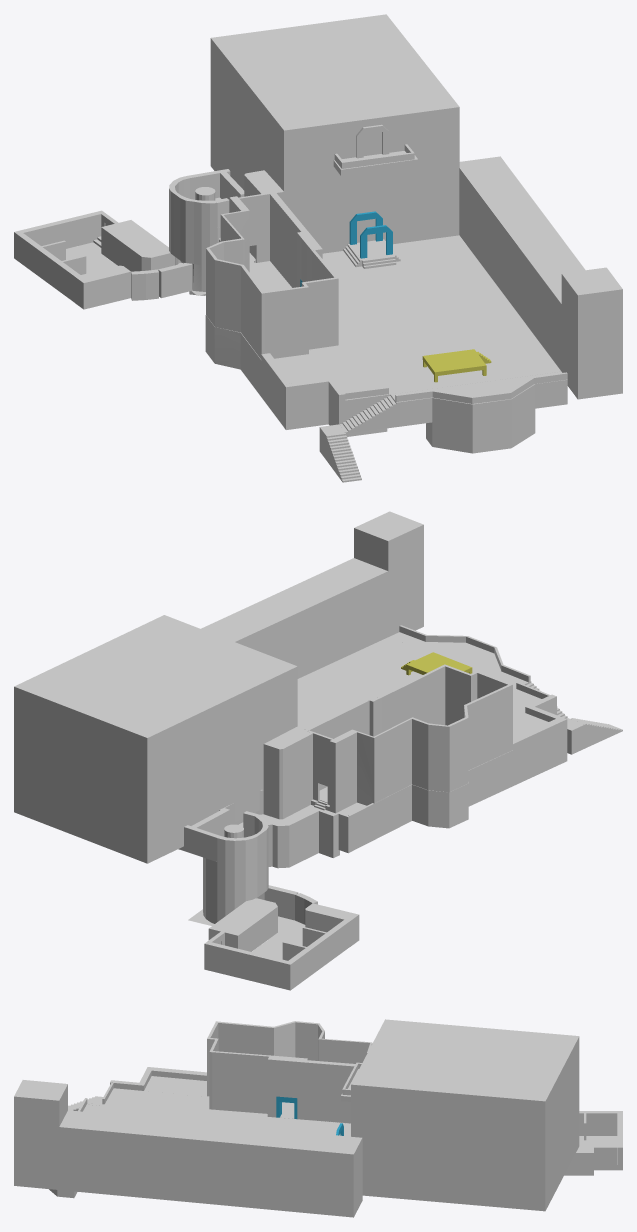
Rendered from PRE_WhiteBox_FirstBeat_SM.fbx.
3 renders of one model, top to bottom at view 1: azimuth 30°, elevation 25°; view 2: azimuth 150°, elevation 25°; view 3: azimuth 270°, elevation 25°, orthographic. The views are drawn at different scales.
Parts seen in each view (by area): view 1: CastleBody_01, Floor_12, Wall_49, Tower_01_1, Floor_17, Tower_01, Floor_13, Wall_41, Wall_03, Wall_47, Wall_34, Wall_31 (+22 smaller); view 2: CastleBody_01, Wall_49, Floor_12, Tower_01_1, Tower_01, Wall_31, Wall_13, Wall_40, Wall_35, Wall_01, Wall_03, Wall_16 (+22 smaller); view 3: CastleBody_01, Wall_49, Tower_01_1, Wall_44, Floor_12, Wall_34, Floor_13, Wall_40, Wall_35, Wall_32, Wall_50, Wall_02 (+10 smaller).
Boxes of the visible parts, bbox=[...] form: CastleBody_01: bbox=[210, 14, 459, 253]; Floor_12: bbox=[322, 235, 561, 396]; Wall_49: bbox=[459, 156, 585, 371]; Tower_01_1: bbox=[561, 267, 622, 399]; Floor_17: bbox=[426, 376, 535, 453]; Tower_01: bbox=[169, 175, 220, 292]; Floor_13: bbox=[309, 329, 387, 436]; Wall_41: bbox=[264, 286, 305, 358]; Wall_03: bbox=[101, 220, 174, 271]; Wall_47: bbox=[284, 378, 334, 429]; Wall_34: bbox=[270, 193, 307, 287]; Wall_31: bbox=[240, 332, 291, 426]; CastleBody_01: bbox=[14, 615, 297, 863]; Wall_49: bbox=[201, 558, 388, 678]; Floor_12: bbox=[297, 637, 517, 728]; Tower_01_1: bbox=[354, 511, 423, 636]; Tower_01: bbox=[203, 814, 268, 923]; Wall_31: bbox=[468, 719, 562, 806]; Wall_13: bbox=[263, 726, 312, 819]; Wall_40: bbox=[464, 684, 512, 770]; Wall_35: bbox=[372, 717, 413, 803]; Wall_01: bbox=[204, 941, 293, 990]; Wall_03: bbox=[208, 898, 277, 951]; Wall_16: bbox=[348, 784, 411, 852]; CastleBody_01: bbox=[351, 1019, 579, 1211]; Wall_49: bbox=[59, 1110, 362, 1217]; Tower_01_1: bbox=[14, 1080, 67, 1189]; Wall_44: bbox=[212, 1051, 269, 1113]; Floor_12: bbox=[97, 1104, 350, 1136]; Wall_34: bbox=[306, 1060, 355, 1123]; Floor_13: bbox=[102, 1088, 350, 1126]; Wall_40: bbox=[215, 1021, 273, 1055]; Wall_35: bbox=[318, 1038, 372, 1063]; Wall_32: bbox=[144, 1076, 209, 1096]; Wall_50: bbox=[275, 1056, 298, 1097]; Wall_02: bbox=[579, 1111, 617, 1135].
Bounding box in the file's own units: 5716 × 3319 × 10501.
